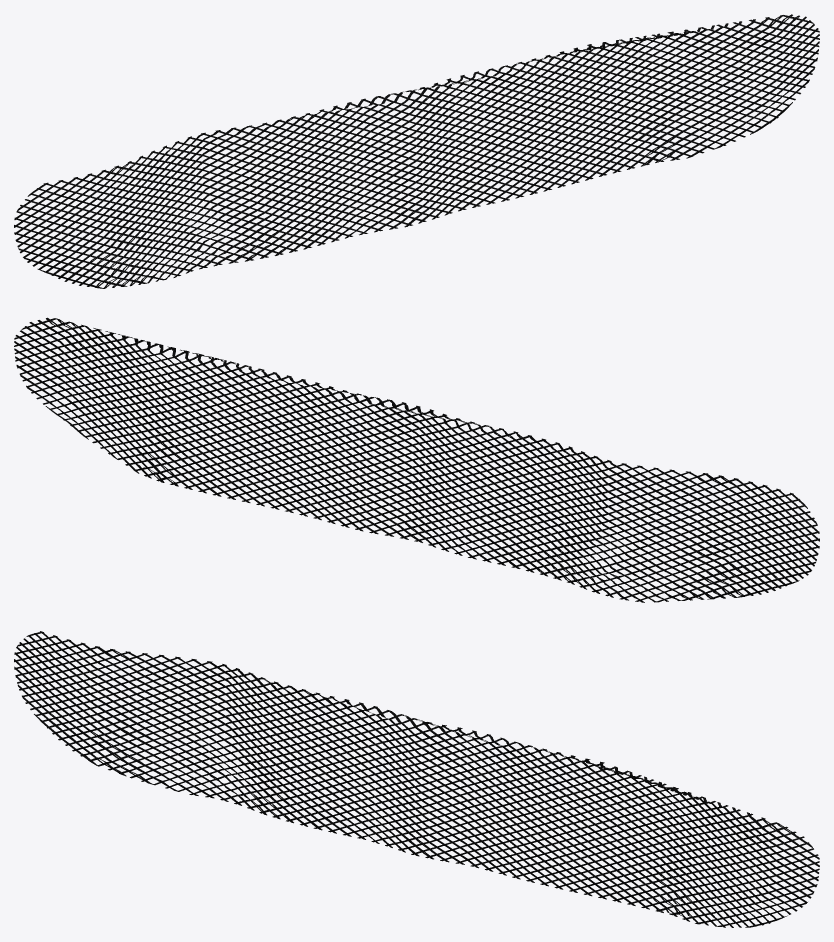
The model's file is ZG01_zunsport_grille_black.glb.
3 views of the same model, one above another, from view 1: azimuth 30°, elevation 25°; view 2: azimuth 150°, elevation 25°; view 3: azimuth 330°, elevation 25° (orthographic).
Visible parts, largest first — view 1: MOD_NA_ZG01_mouth; view 2: MOD_NA_ZG01_mouth; view 3: MOD_NA_ZG01_mouth.
Boxes of the visible parts, box(x1,y1,x2,y2) form: MOD_NA_ZG01_mouth: box(14, 14, 819, 288); MOD_NA_ZG01_mouth: box(14, 317, 819, 602); MOD_NA_ZG01_mouth: box(14, 631, 819, 927).
Size of the model in its own units: 0.797 by 0.128 by 0.0325.
1 material, 1 textured.
